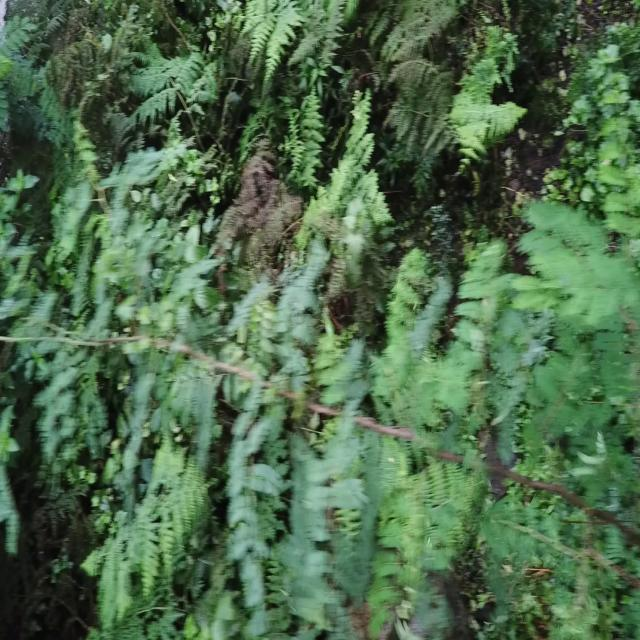Mysore-Thorn-Weed: (8, 166, 640, 620)
